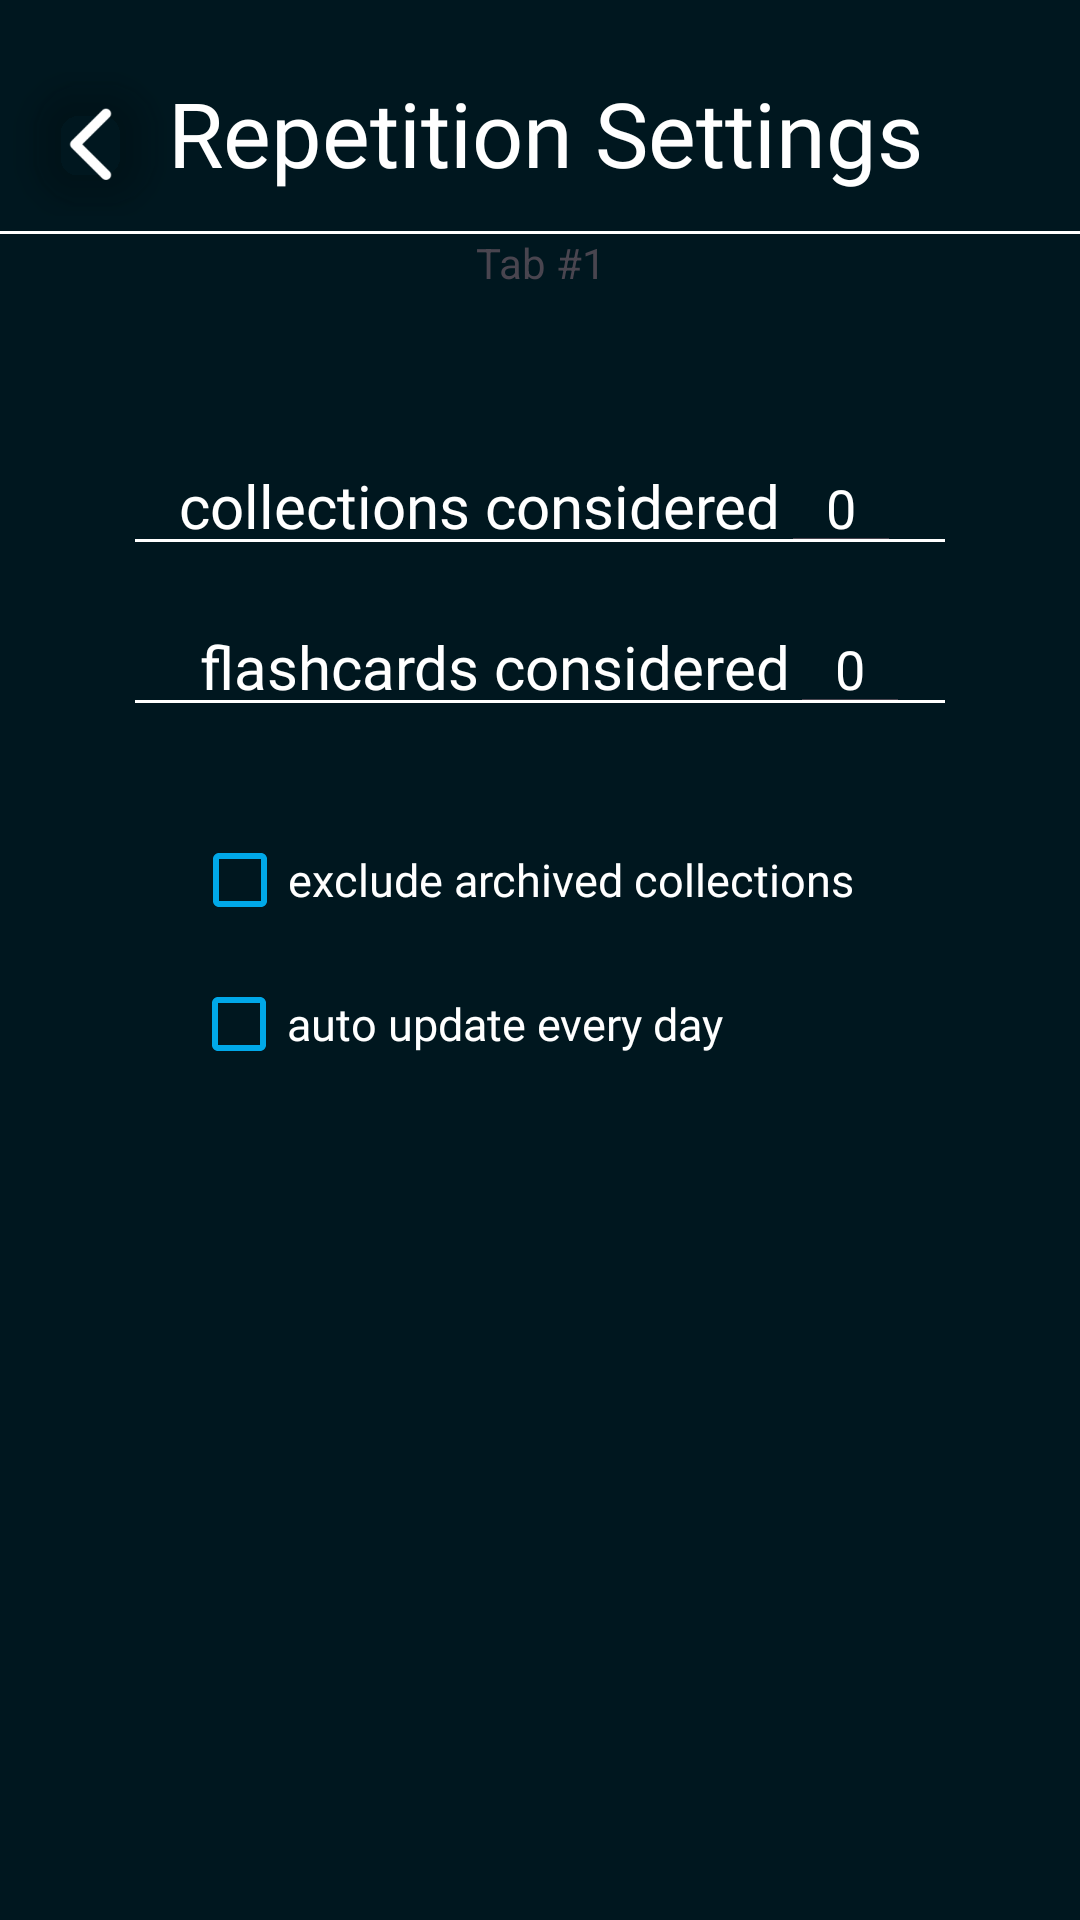

Screen size 1080 x 1920. Icon name, then its box in pixels as (x1, y1, x2, y2):
back: (69, 108, 112, 180)
